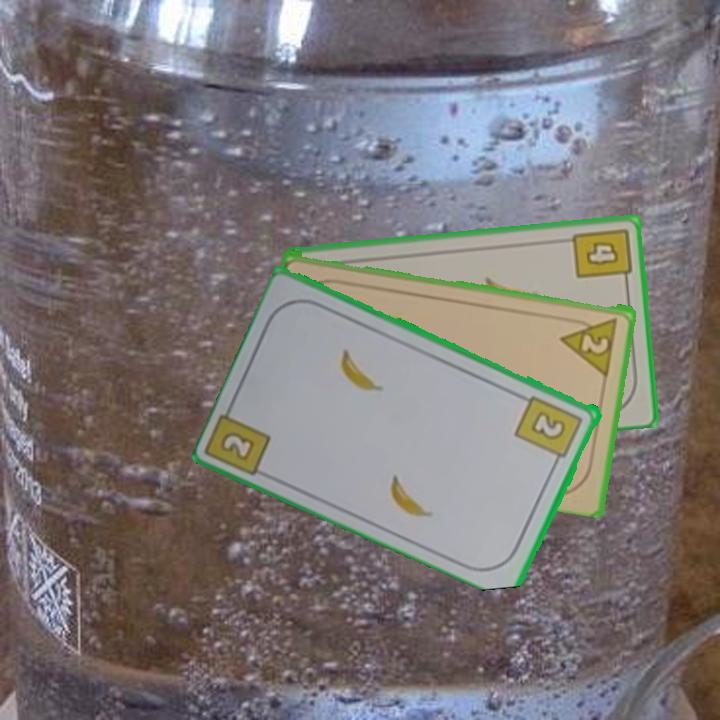2b: (512, 392, 586, 468), (217, 428, 259, 464)
2p: (557, 313, 621, 376)
4b: (569, 224, 634, 288)
